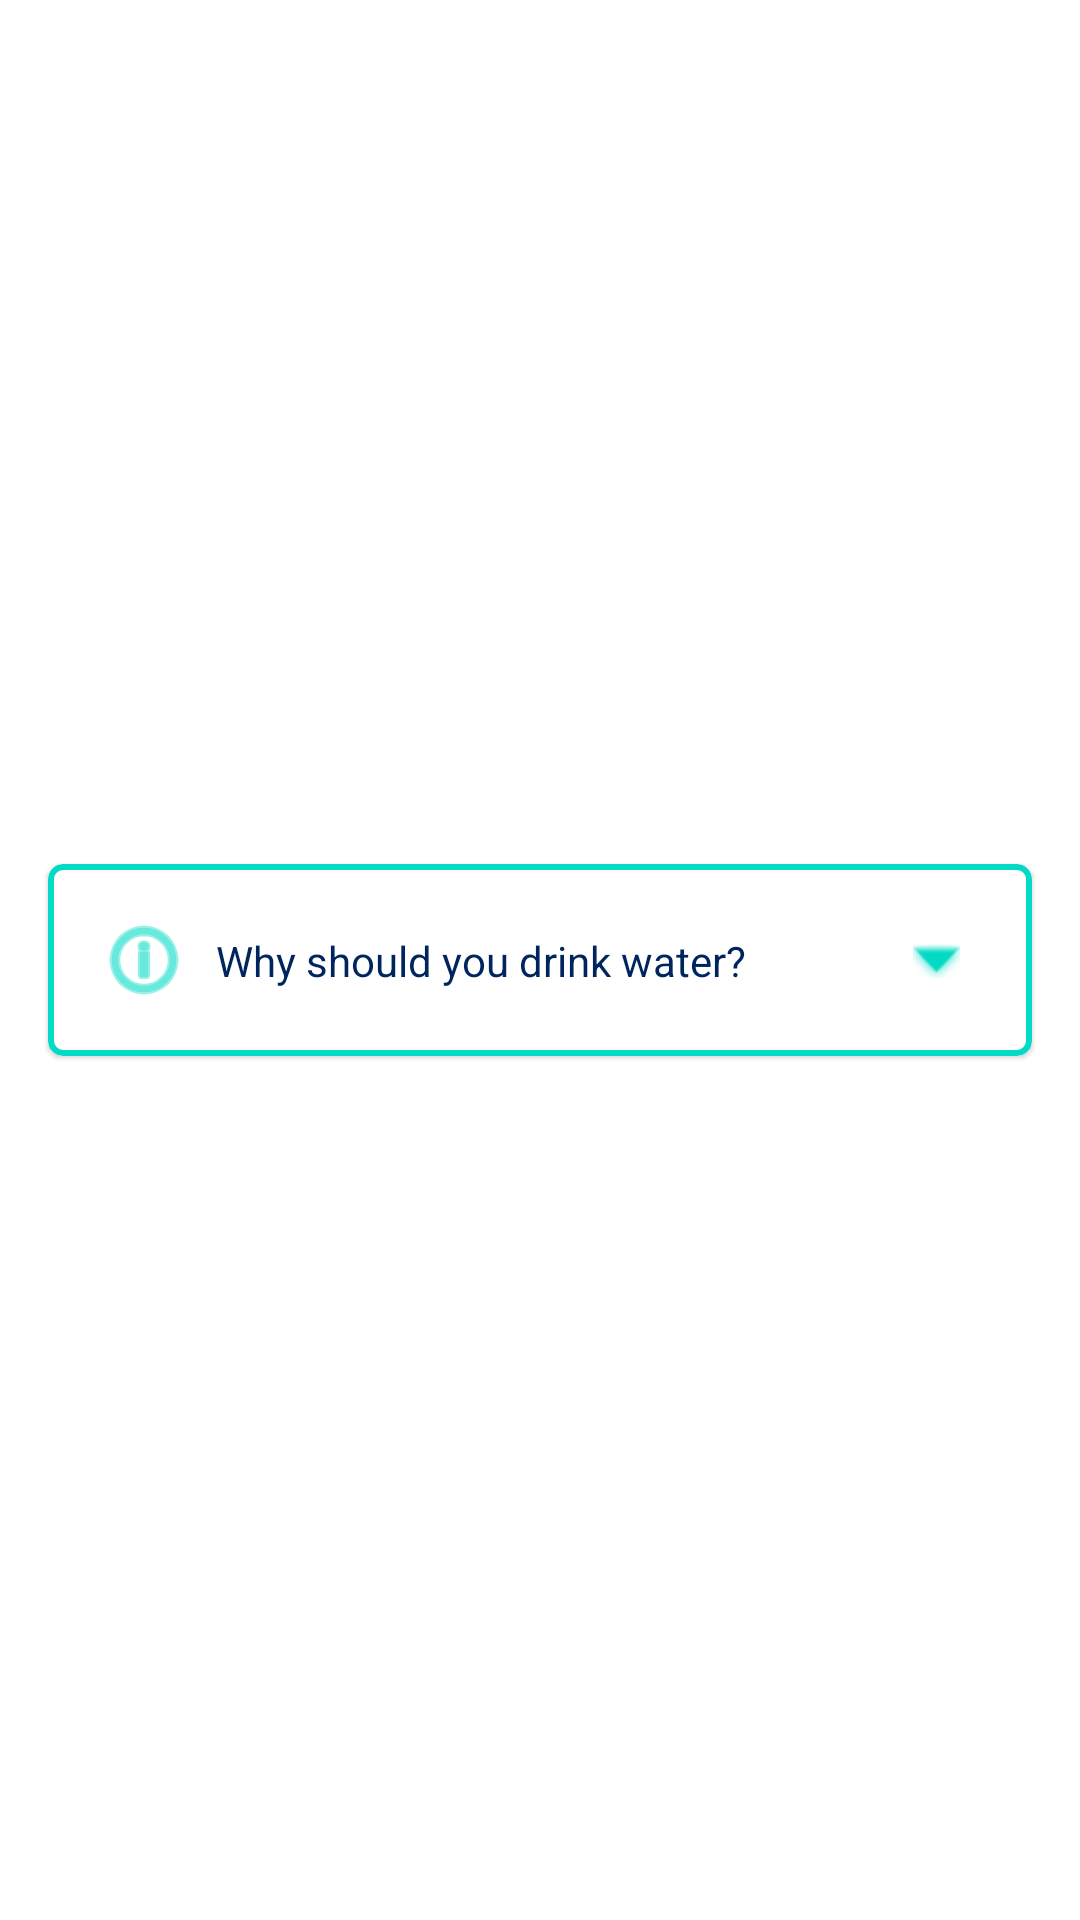

Point at icon controls on the screen. Image size 1080px x 1920px, points as (x,y).
arrow down float: (936,961)
info details: (144,960)
